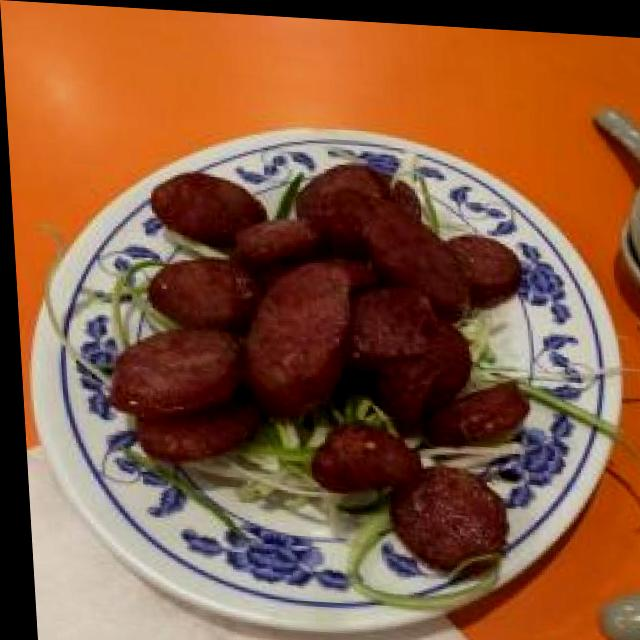chinese_sausage: (99, 151, 536, 579)
